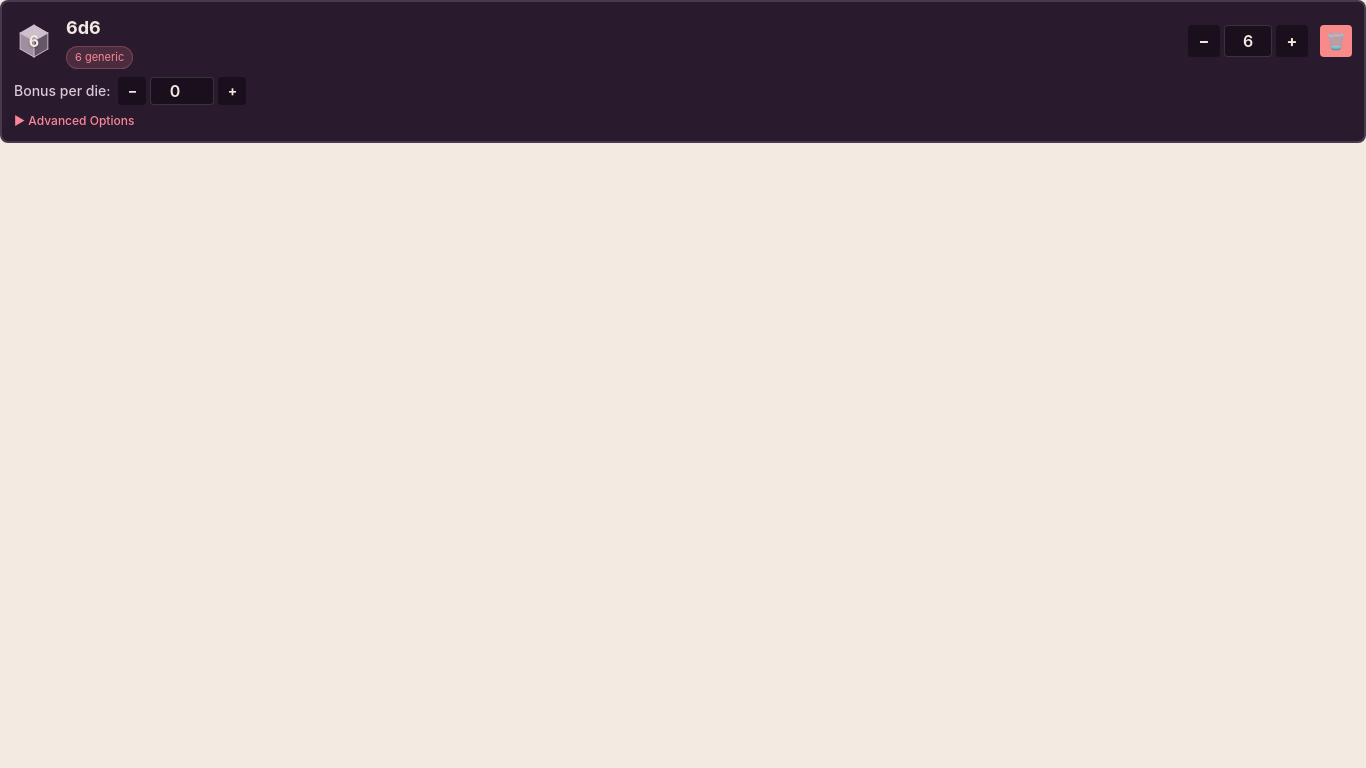
DiceEntryCard removed-dice notice › names the generic dice a hand-typed shrink threw away
The width and height of the screenshot is (1366, 768).
Step 1. Click the button "▶ Advanced Options" → (80, 120), box [14,112,1352,128]
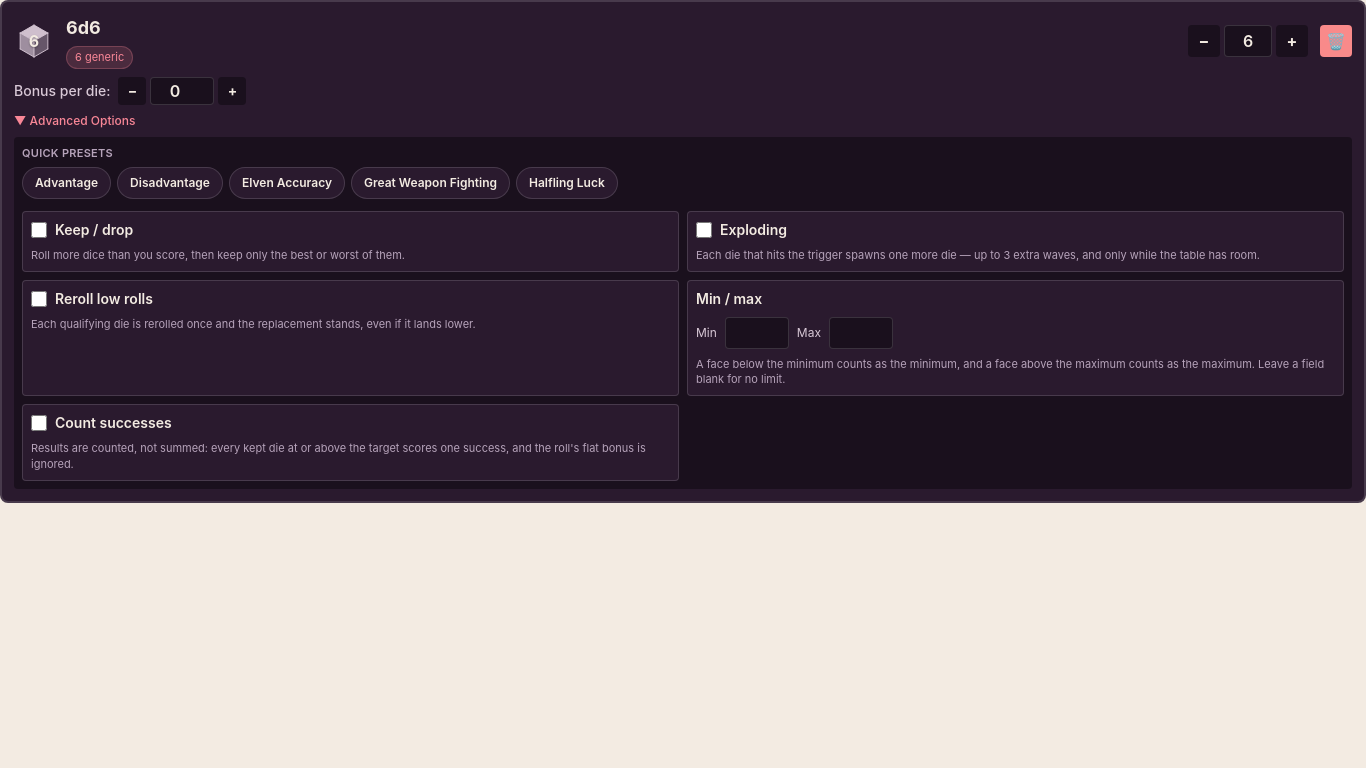
Step 2. Replace the text in the field named "D6 quantity" with "2" → (1248, 41), box [1224,25,1272,57]
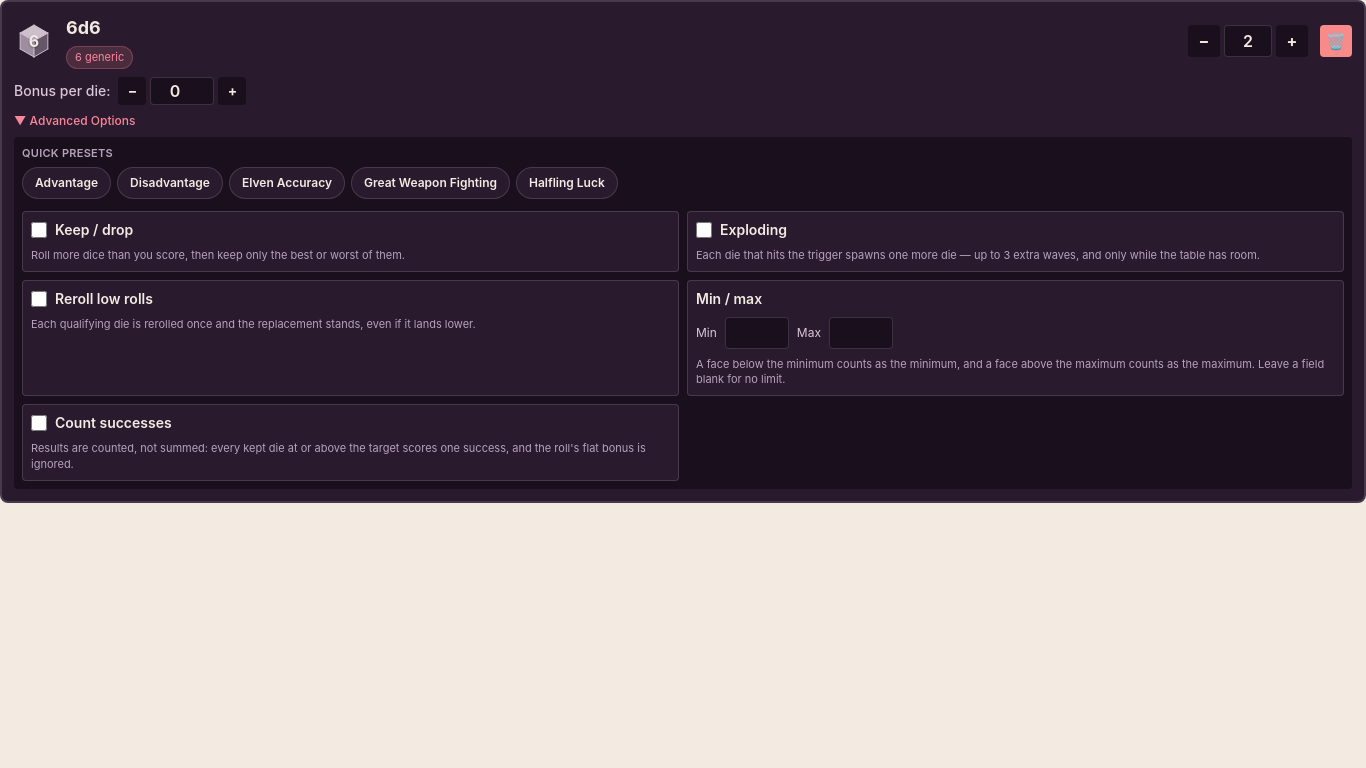
Step 3. Leave the field named "D6 quantity", box [1224,25,1272,57]
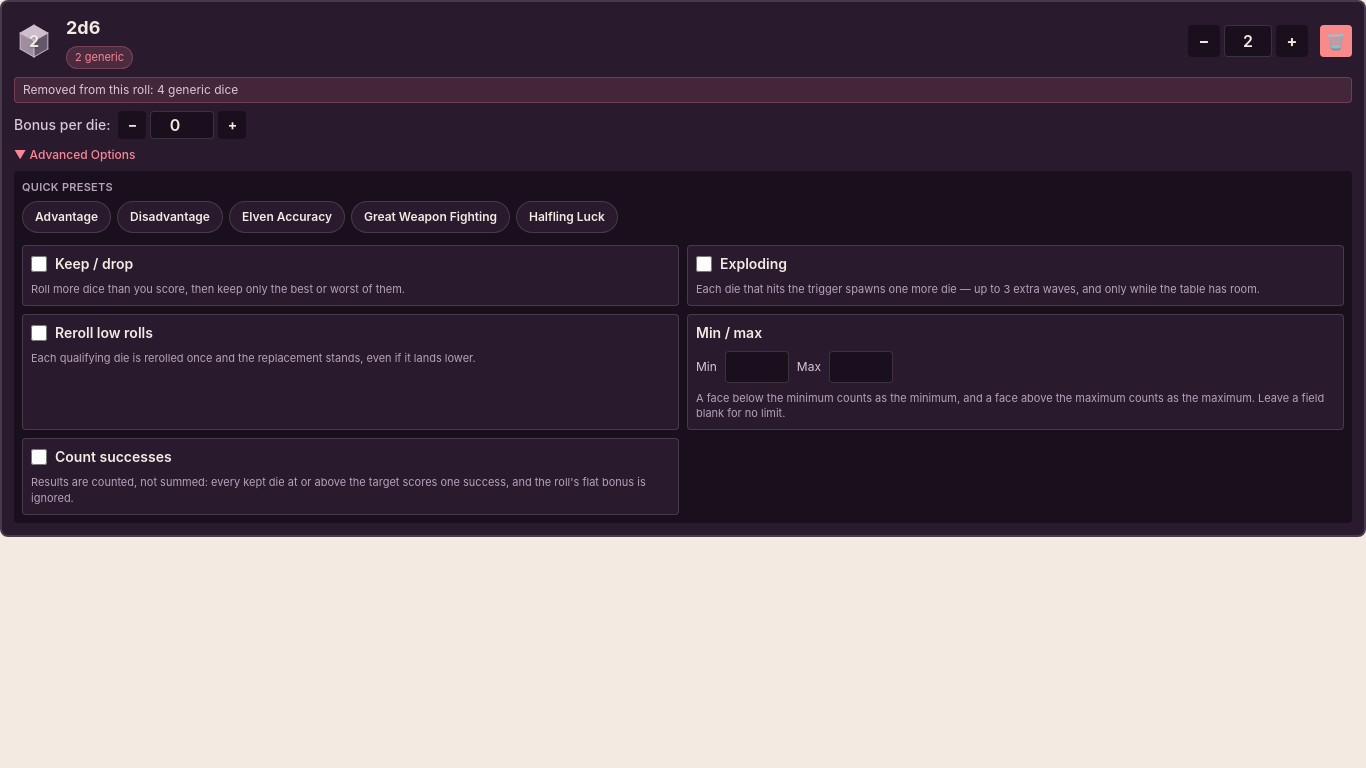
Expected: the message reads "Removed from this roll: 4 generic dice", [14,76,1352,102]
